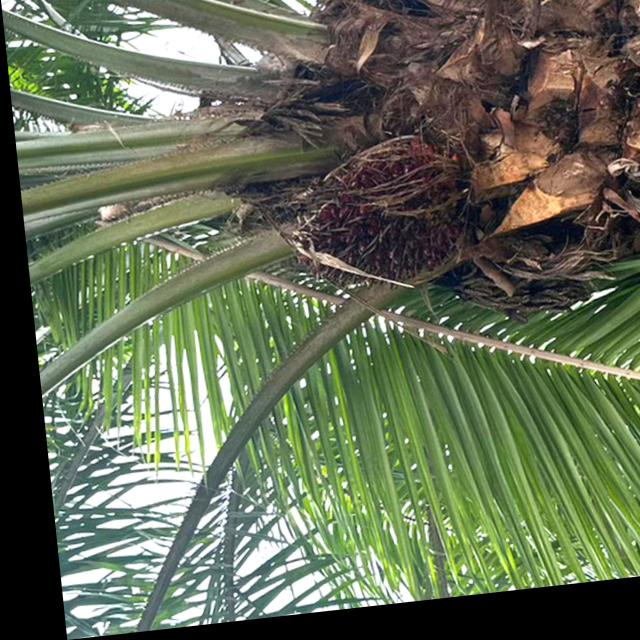ripe: (272, 135, 478, 306)
